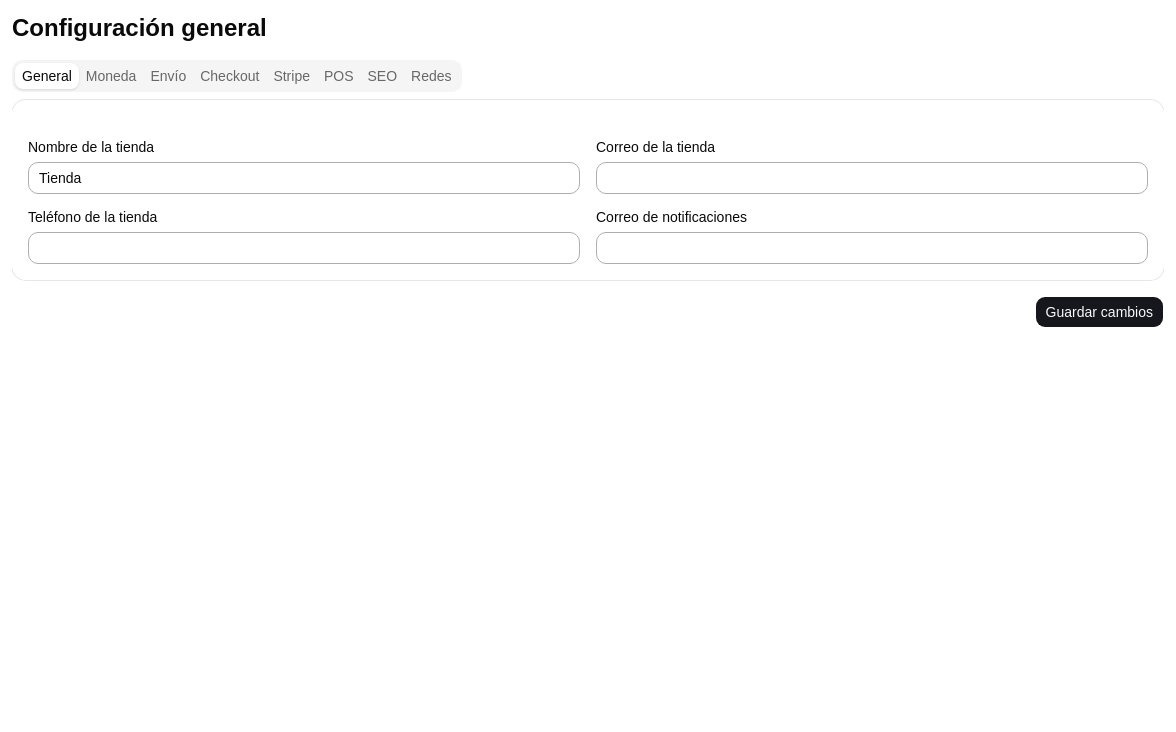
Test: GeneralSettings: resincronizar con UvoPOS › stays disabled sin token and says why
The image size is (1176, 732).
Click the tab "POS" at (339, 76), box [317,63,361,89]
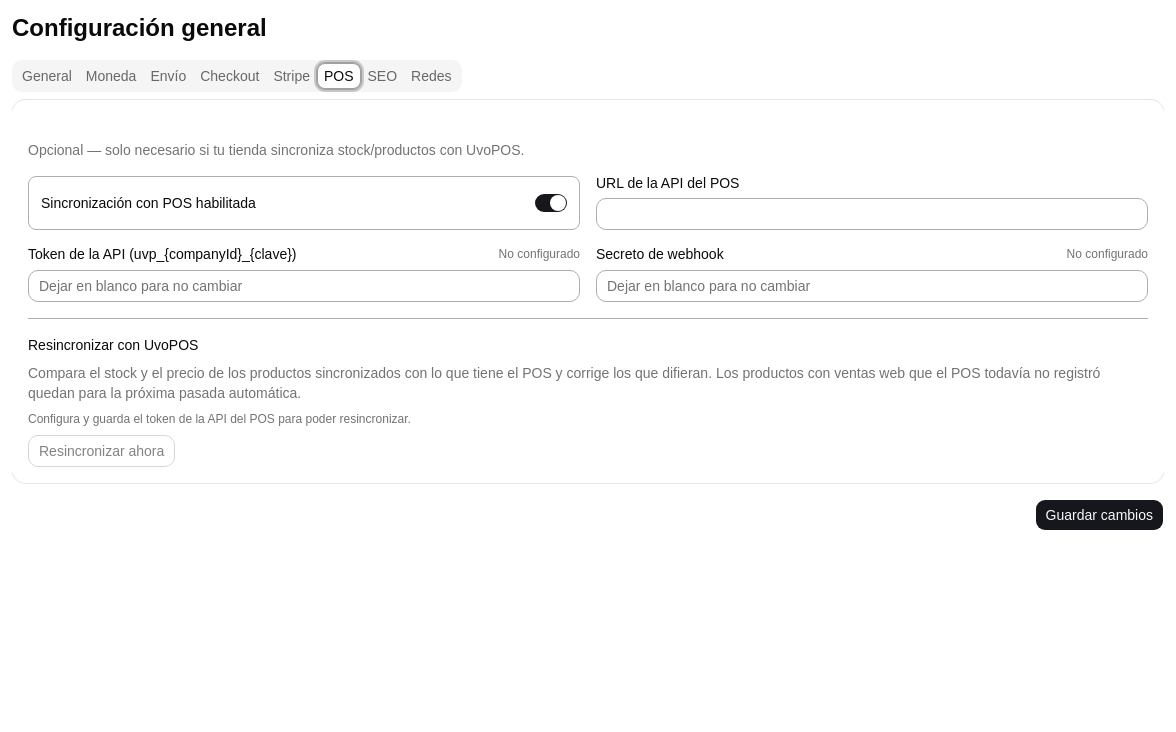
expect the button "Resincronizar ahora" is disabled: met, box [28,435,175,467]
expect the text "Configura y guarda el token" is shown: met, box [28,412,411,426]
